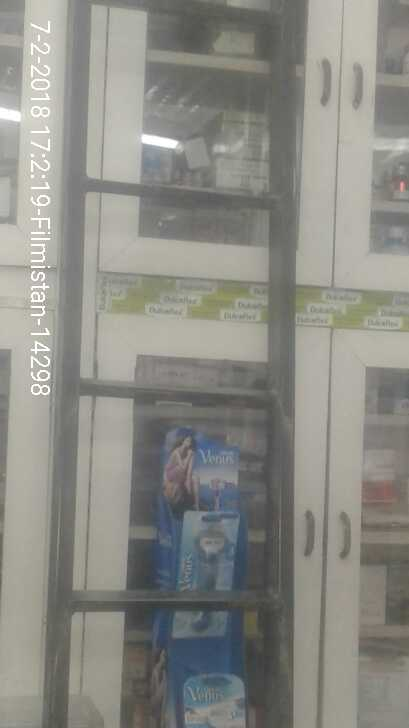venus: (173, 503, 237, 644)
